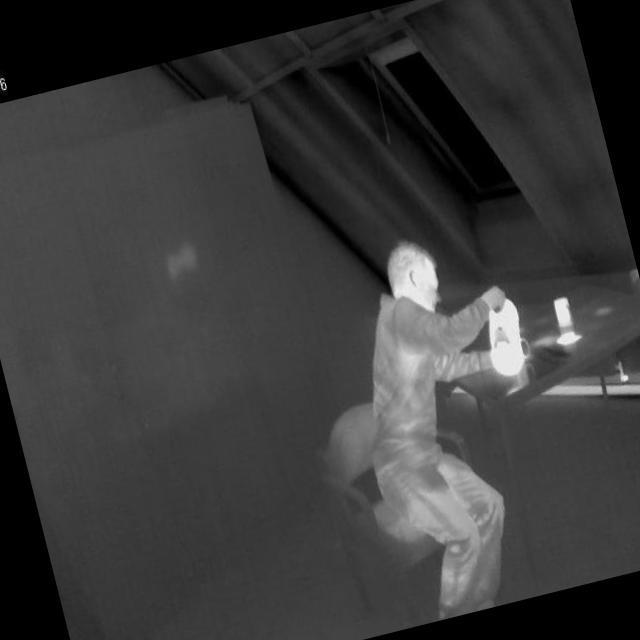person: (292, 214, 582, 634)
